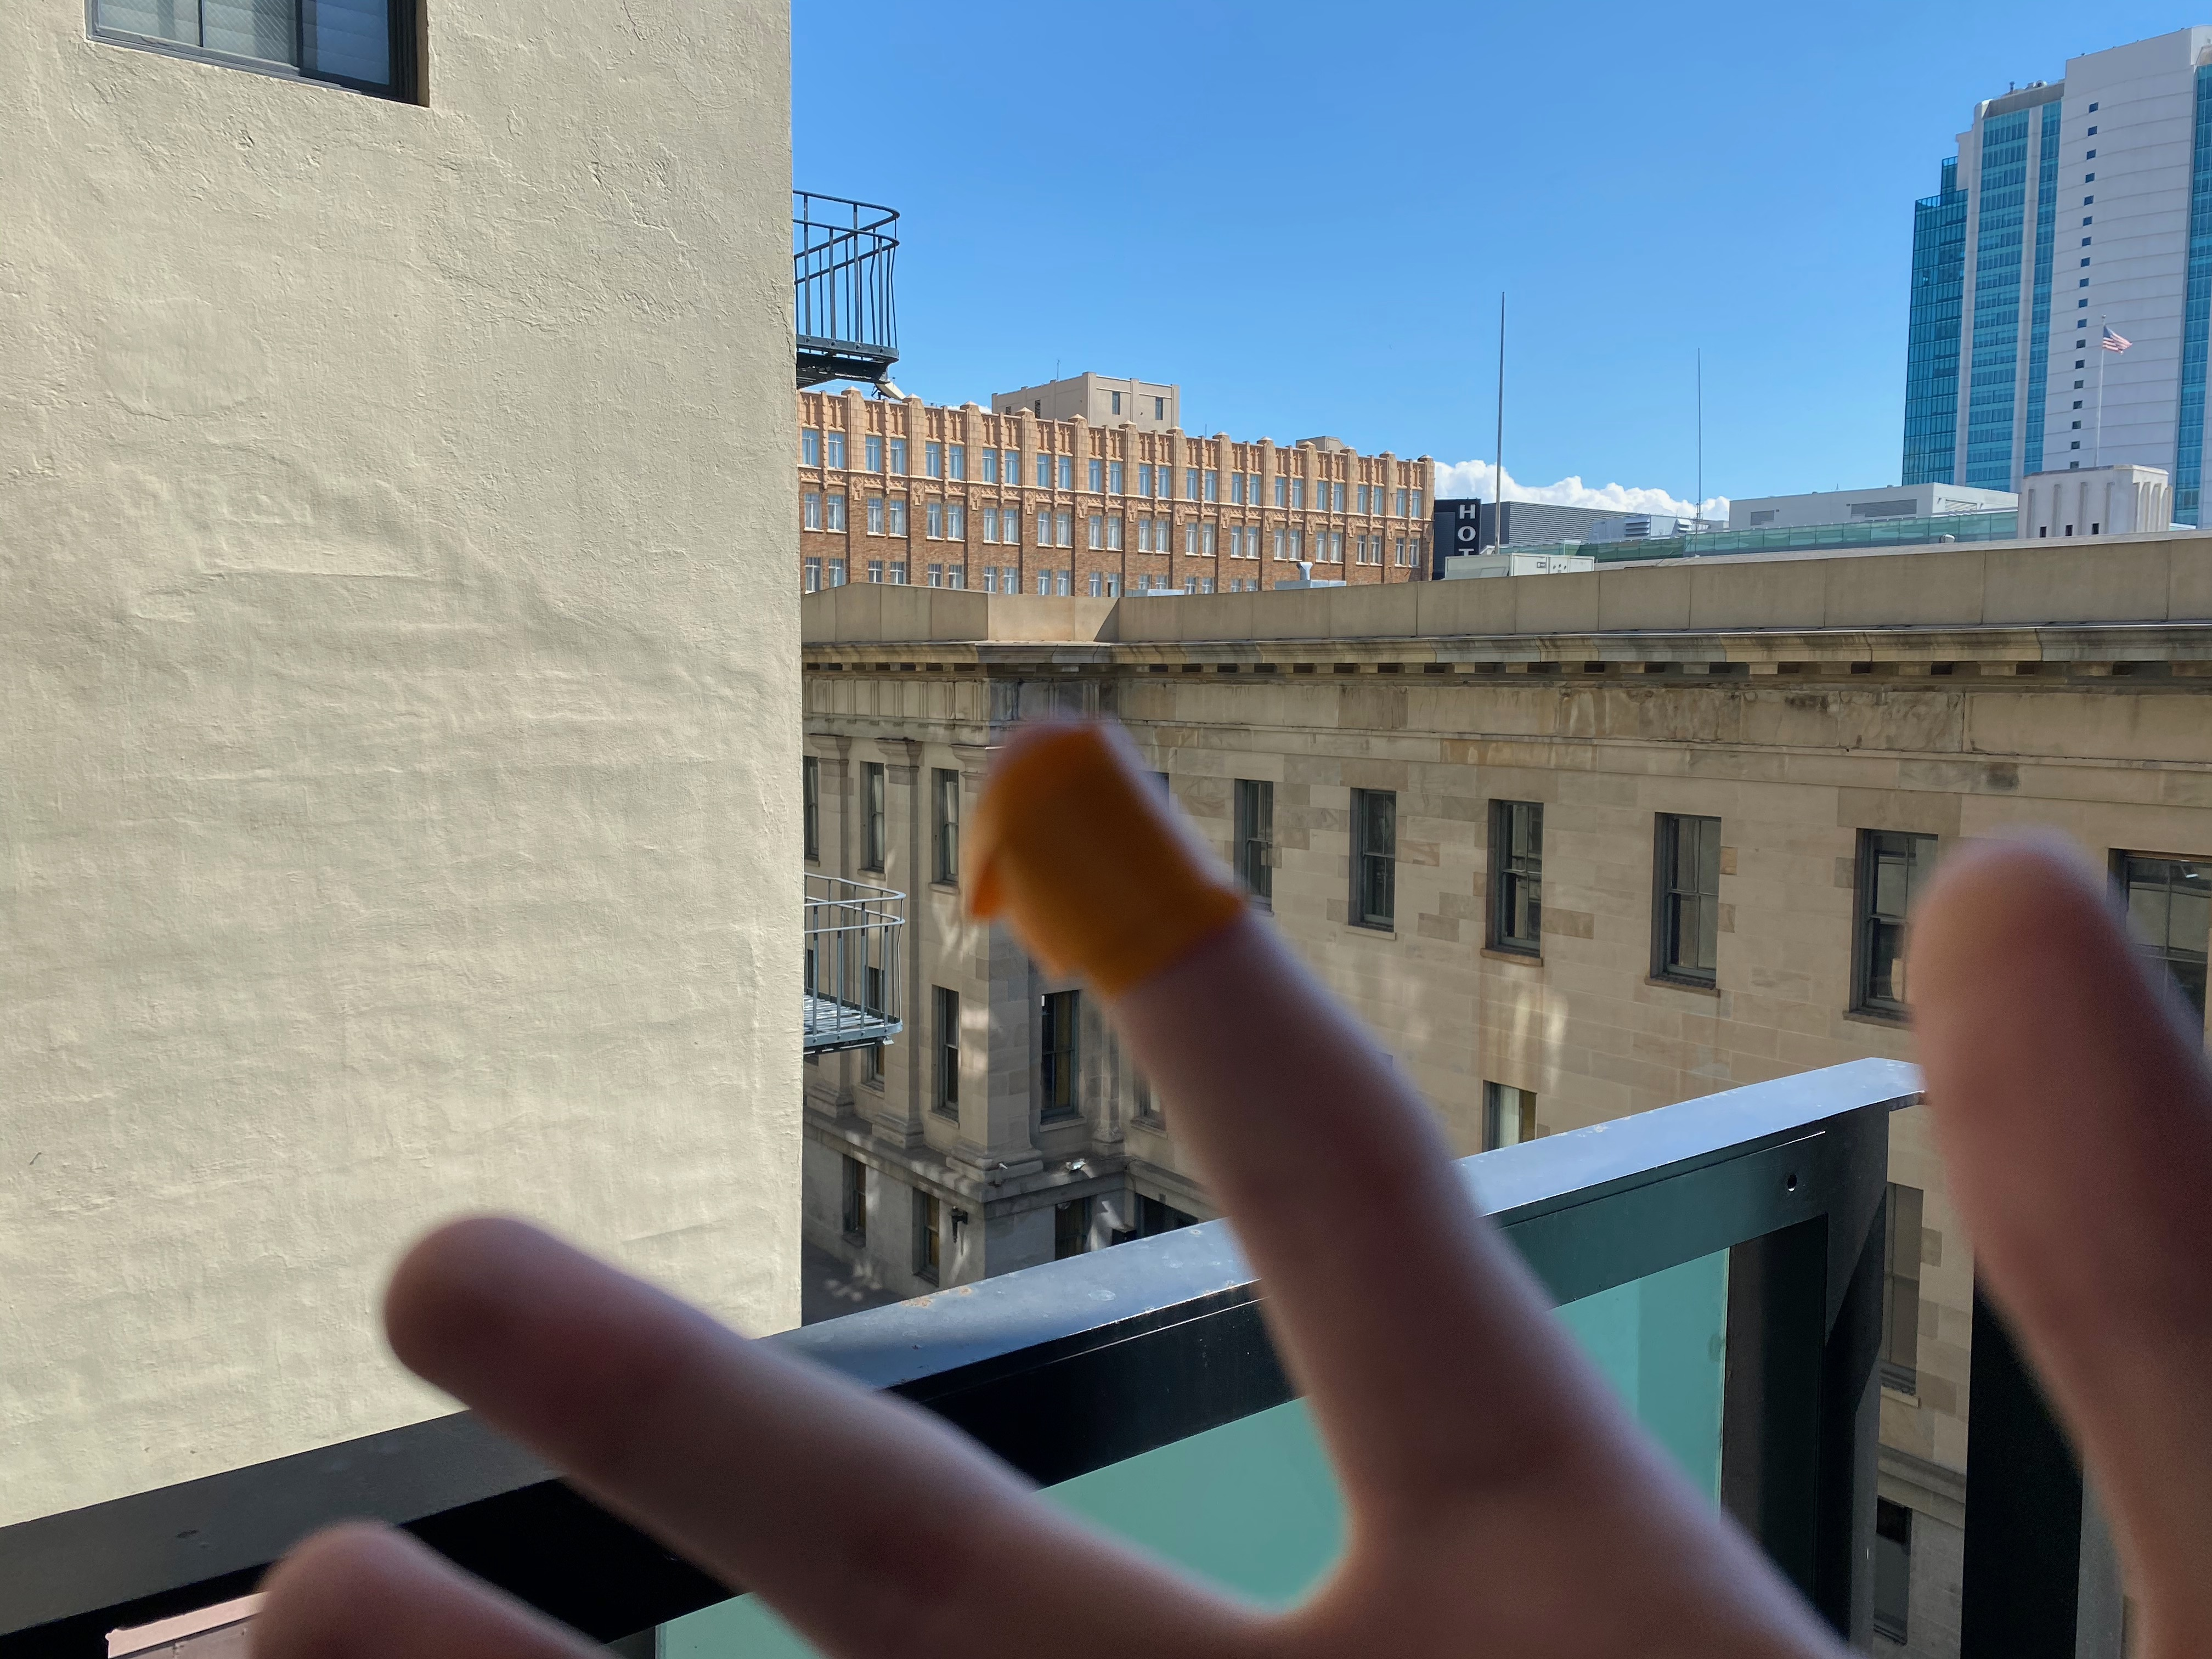fingertip: (948, 702, 1231, 1035)
